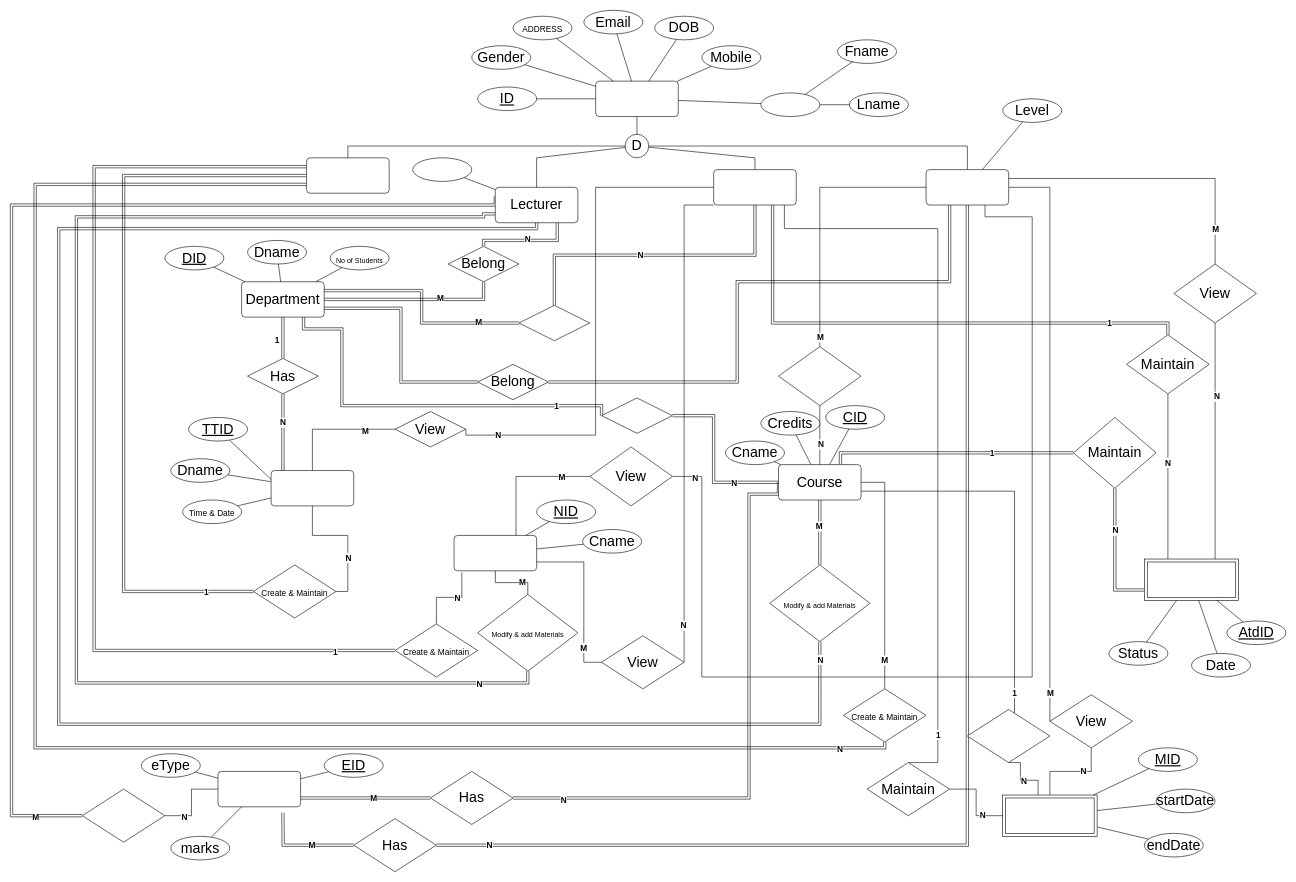
Some shapes in this 1296 by 882 pixel diagram are drawn without their labels. The shapes that lost their labels are listed below. From the top down, each one's centre as x and y in pixels, then its label:
(x=636, y=99): User
(x=790, y=104): Name
(x=347, y=175): Admin
(x=442, y=169): Position
(x=754, y=187): Technical Officer
(x=967, y=187): Student
(x=554, y=323): Work
(x=819, y=376): Enrols
(x=636, y=415): Conduct
(x=312, y=488): Time Table
(x=495, y=553): Notice
(x=1191, y=579): Attendance
(x=1008, y=736): Accept
(x=259, y=789): Exam_Results
(x=123, y=815): Upload
(x=1049, y=815): Medical
